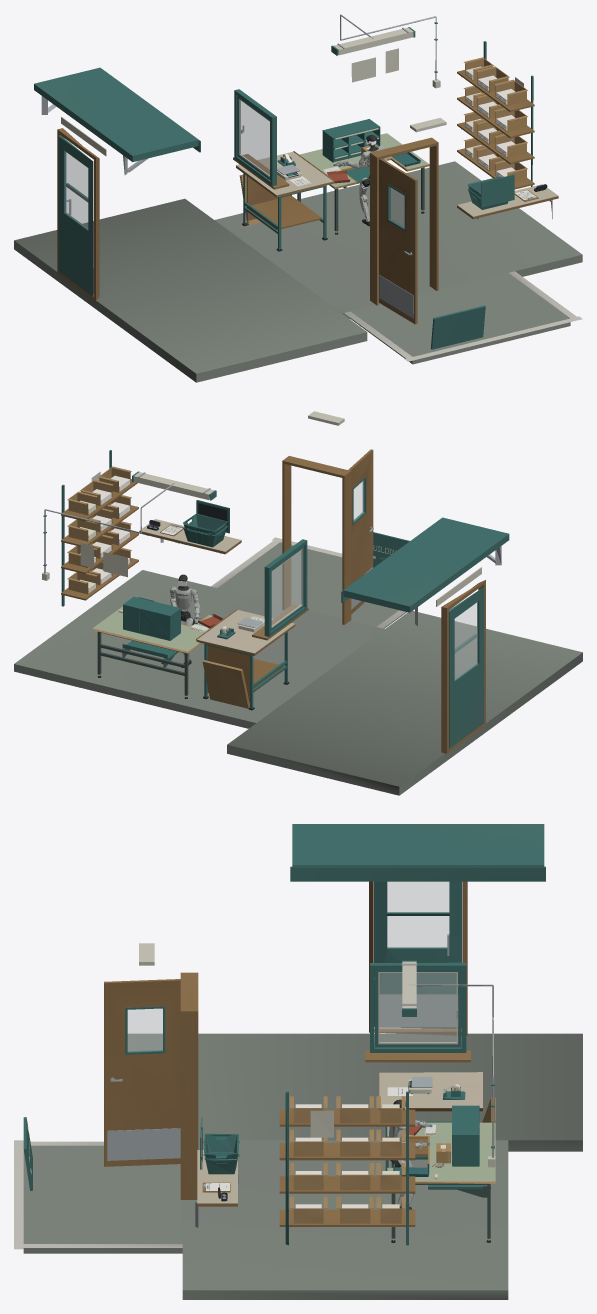
The model's file is mini.glb.
3 renders of one model, top to bottom at view 1: azimuth 30°, elevation 25°; view 2: azimuth 150°, elevation 25°; view 3: azimuth 270°, elevation 25°, orthographic. The views are drawn at different scales.
Visible parts, largest first — view 1: Department / FINANCE, part/environment/door_kickplates, part/environment/door_vision_glass; view 2: Department / FINANCE, part/environment/door_kickplates, part/environment/door_vision_glass; view 3: Department / FINANCE, part/environment/door_kickplates, part/environment/door_vision_glass.
Part boxes in pixels (x1,y1,x2,y2): Department / FINANCE: [34, 22, 582, 364]; part/environment/door_kickplates: [14, 14, 582, 382]; part/environment/door_vision_glass: [65, 100, 404, 228]; Department / FINANCE: [14, 411, 509, 753]; part/environment/door_kickplates: [44, 472, 582, 795]; part/environment/door_vision_glass: [150, 480, 477, 679]; Department / FINANCE: [23, 824, 545, 1299]; part/environment/door_kickplates: [14, 934, 582, 1249]; part/environment/door_vision_glass: [128, 882, 456, 1198].
Size of the model in its own units: 6.3 by 2.78 by 5.87.
Materials: 7 (7 with a texture image).
